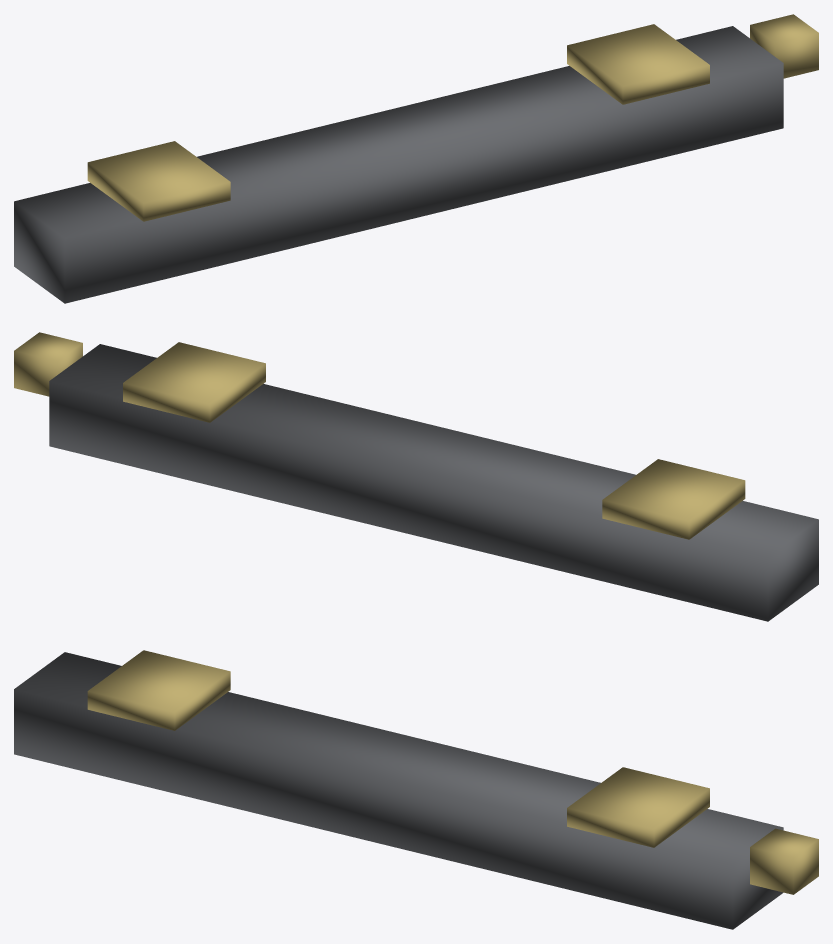
File: wheel_stop_14.glb
3 views of the same model, one above another, from view 1: azimuth 30°, elevation 25°; view 2: azimuth 150°, elevation 25°; view 3: azimuth 330°, elevation 25° (orthographic).
Visible parts, largest first — view 1: world; view 2: world; view 3: world.
Boxes of the visible parts, <box> form: world: <box>14,14,818,303</box>; world: <box>14,332,818,621</box>; world: <box>14,650,818,929</box>.
Bounding box in the file's own units: 1.69 × 0.1764 × 0.2134.
